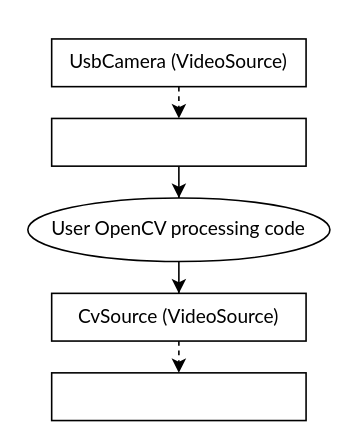
The diagram is 358 pixels wide and 448 high, and some of its shapes have lost their labels. Here are the shapes that lost their labels. From the top down, the centre of each, then its label:
At [178,141]: "CvSink (VideoSink)".
At [178,396]: "MjpegServer (VideoSink)".
